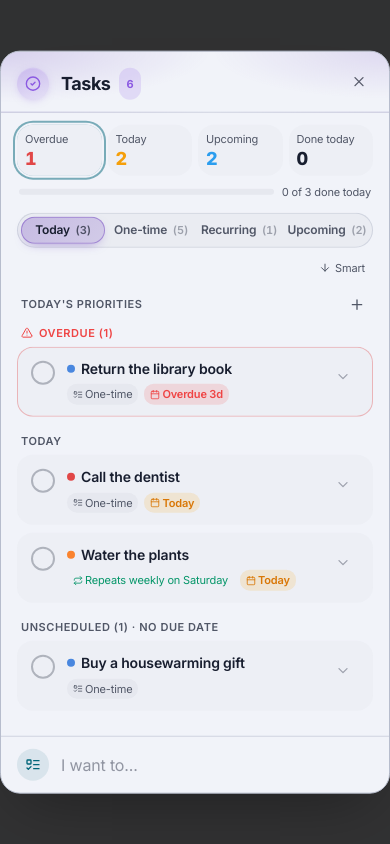
Scenario: TasksPopup — One-time vs Recurring › the composer asks for the task type and defaults to one-time
The width and height of the screenshot is (390, 844).
Later steps or results of the test are not shown.
expect the tab with test id "task-tab-onetime" shows "(5)": met, box [109,216,193,244]
Click the button with test id "button-add-task" at (357, 304), box [345,292,369,316]
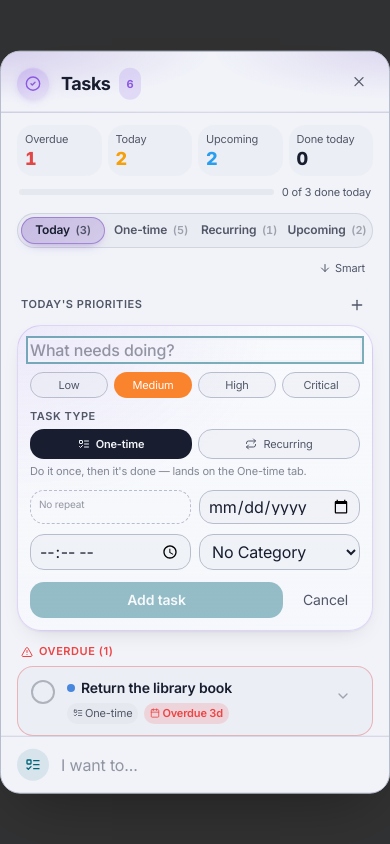
expect the element with test id "task-composer" is shown: met, box [17,324,373,631]
expect the text "No repeat" is shown: met, box [30,489,191,523]
Note: Choosing Recurring reveals the cadence picker…
Click the button with test id "composer-kind-recurring" at (279, 443), box [198,428,360,459]
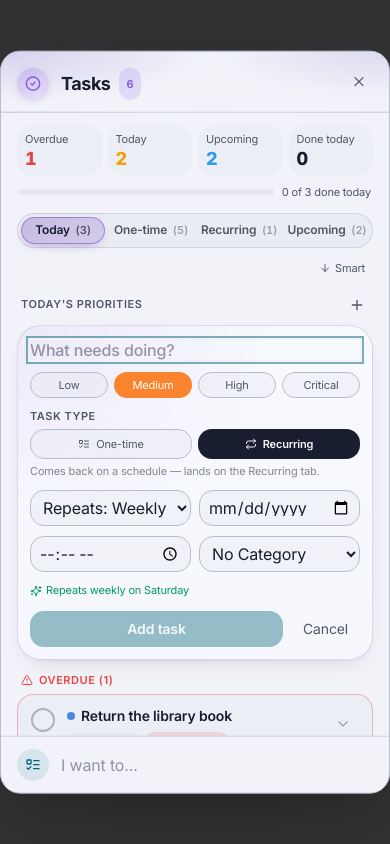
expect the dropdown with test id "composer-recurrence" is shown: met, box [30,489,191,525]
Note: …and going back to One-time takes it away again.
Click the button with test id "composer-kind-onetime" at (111, 443), box [30,428,192,459]
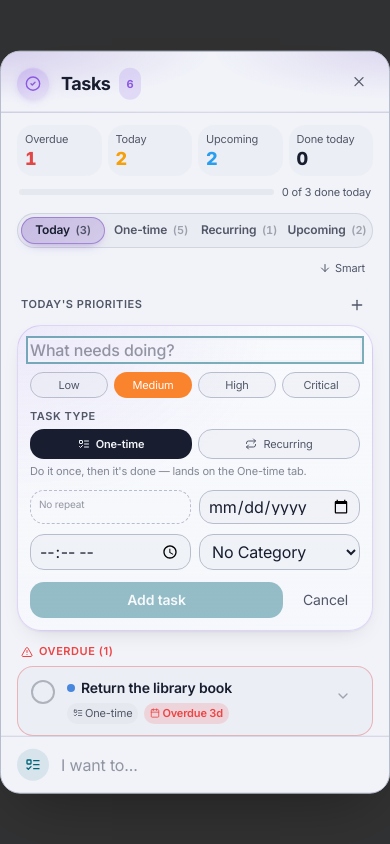
expect the dropdown with test id "composer-recurrence" is gone: met
